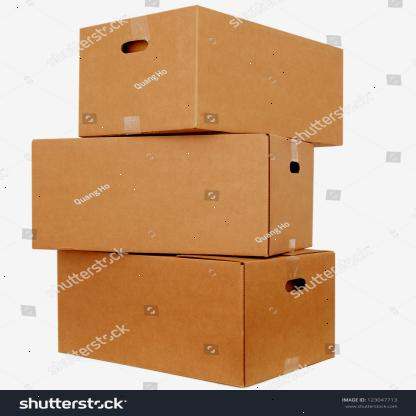box: (32, 134, 269, 258), (57, 250, 245, 388), (78, 5, 198, 138)
